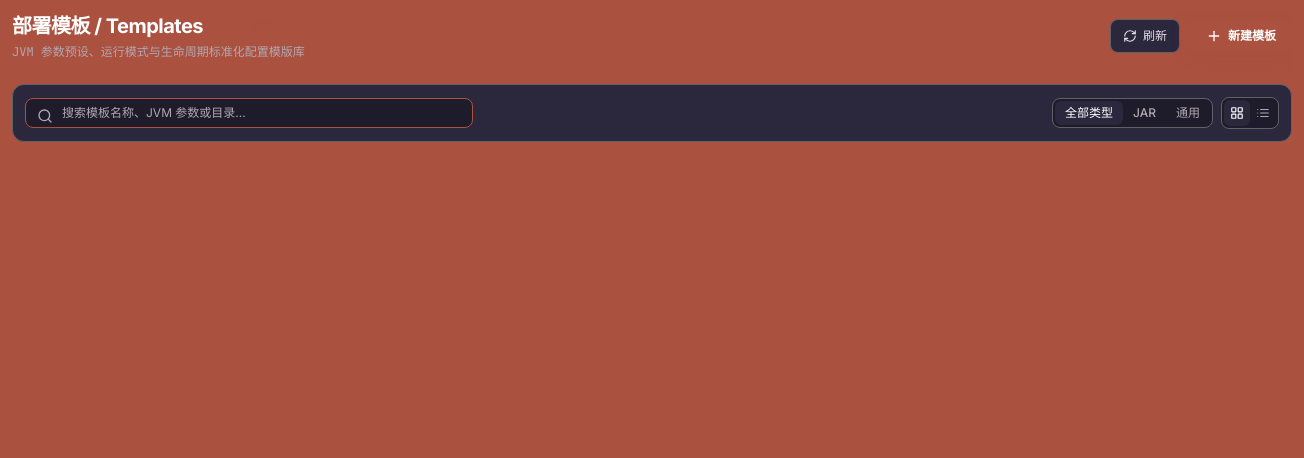
TemplateList Component › filters templates when searching by name
In the field with placeholder "搜索模板名称、JVM 参数或目录...": point(249, 113) left=25, top=98, right=473, bottom=128, type "Microservice"
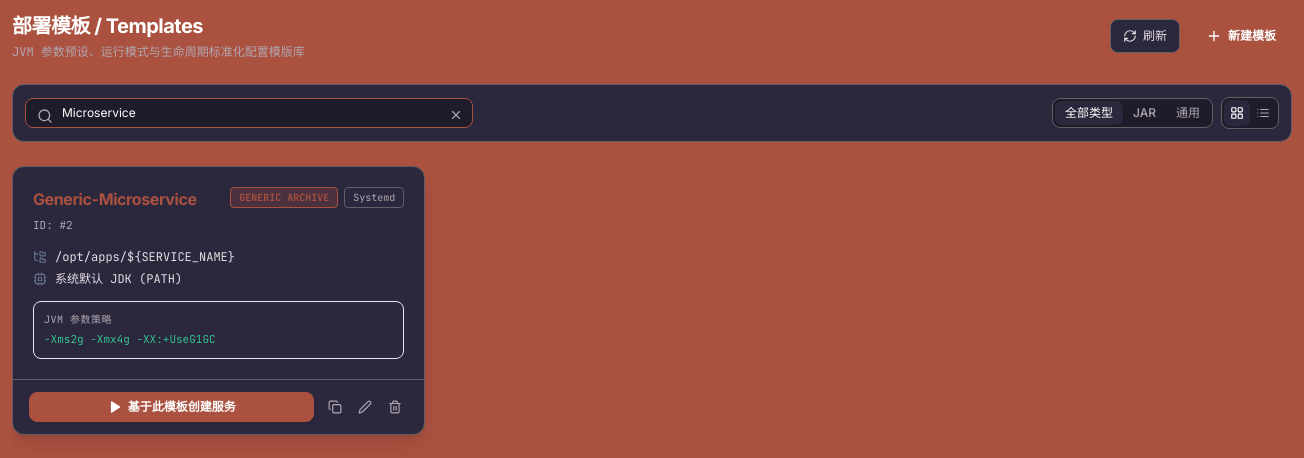
Expected: the text "Generic-Microservice" is shown, left=33, top=187, right=197, bottom=211
